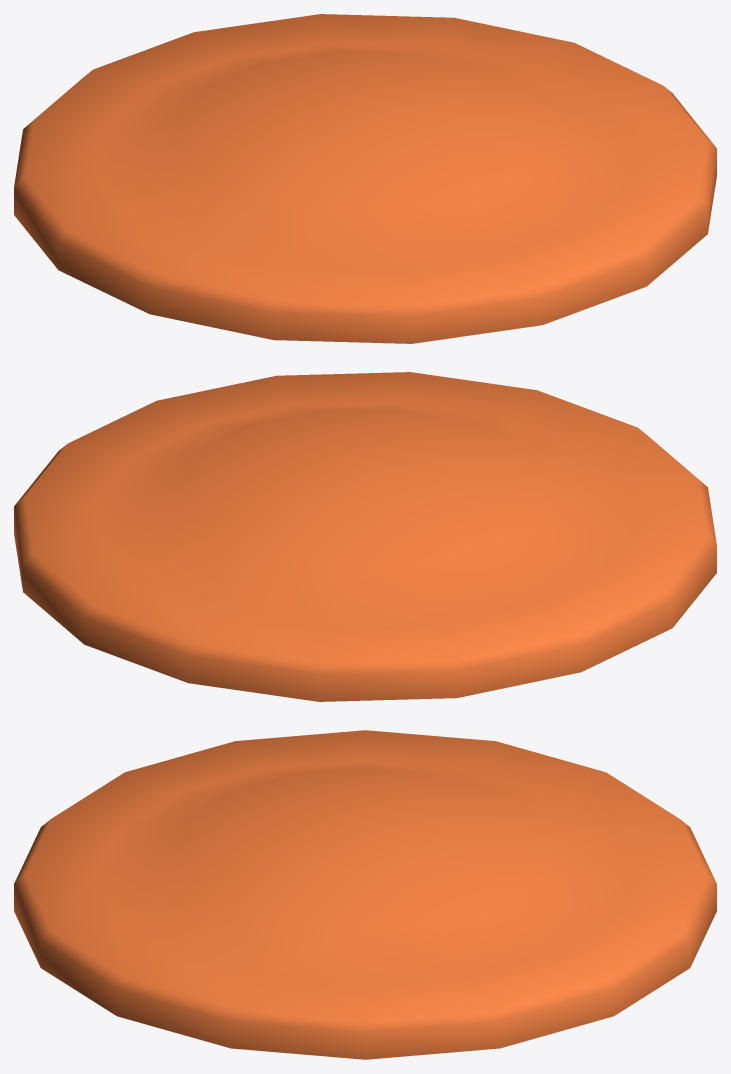
Rendered from pizza1.FBX.
The picture shows the model from 3 angles, top to bottom: view 1: azimuth 30°, elevation 25°; view 2: azimuth 150°, elevation 25°; view 3: azimuth 270°, elevation 25°; orthographic projection.
Parts seen in each view (by area): view 1: Object256; view 2: Object256; view 3: Object256.
Boxes of the visible parts, x1=… form: Object256: x1=14, y1=14, x2=716, y2=343; Object256: x1=14, y1=372, x2=716, y2=701; Object256: x1=14, y1=730, x2=716, y2=1059.
Bounding box in the file's own units: 1.9 × 0.2617 × 1.9.
